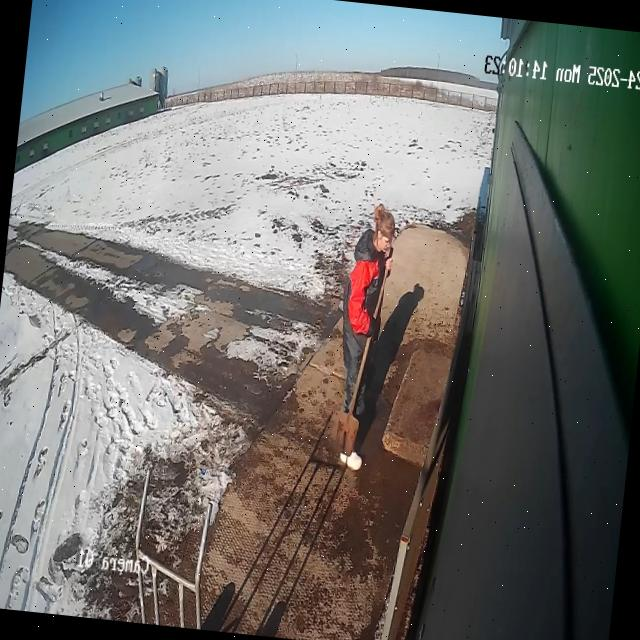Red uniform: (324, 199, 401, 474)
